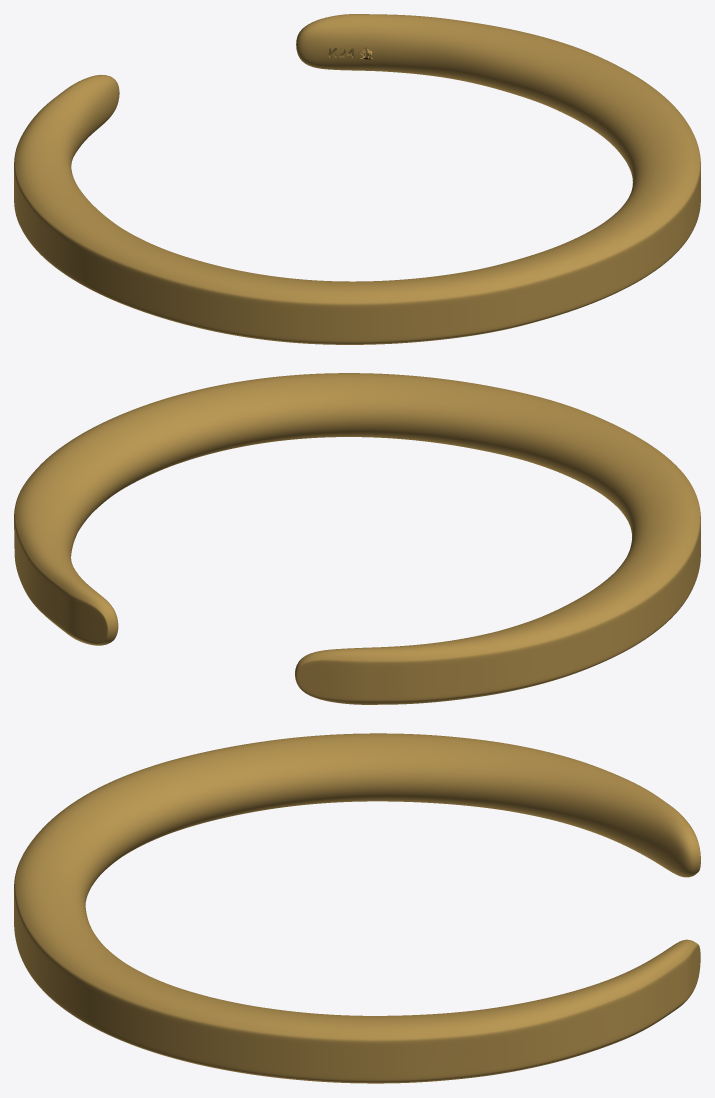
File: ring-gold24.glb
3 renders of one model, top to bottom at view 1: azimuth 30°, elevation 25°; view 2: azimuth 150°, elevation 25°; view 3: azimuth 270°, elevation 25°, orthographic. The views are drawn at different scales.
Visible parts, largest first — view 1: ring-body.010; view 2: ring-body.010; view 3: ring-body.010.
Boxes of the visible parts, <box> form: ring-body.010: <box>14,14,700,344</box>; ring-body.010: <box>14,373,700,704</box>; ring-body.010: <box>14,733,700,1083</box>.
Bounding box in the file's own units: 0.5115 × 0.0444 × 0.4854.
1 material, 1 textured.
